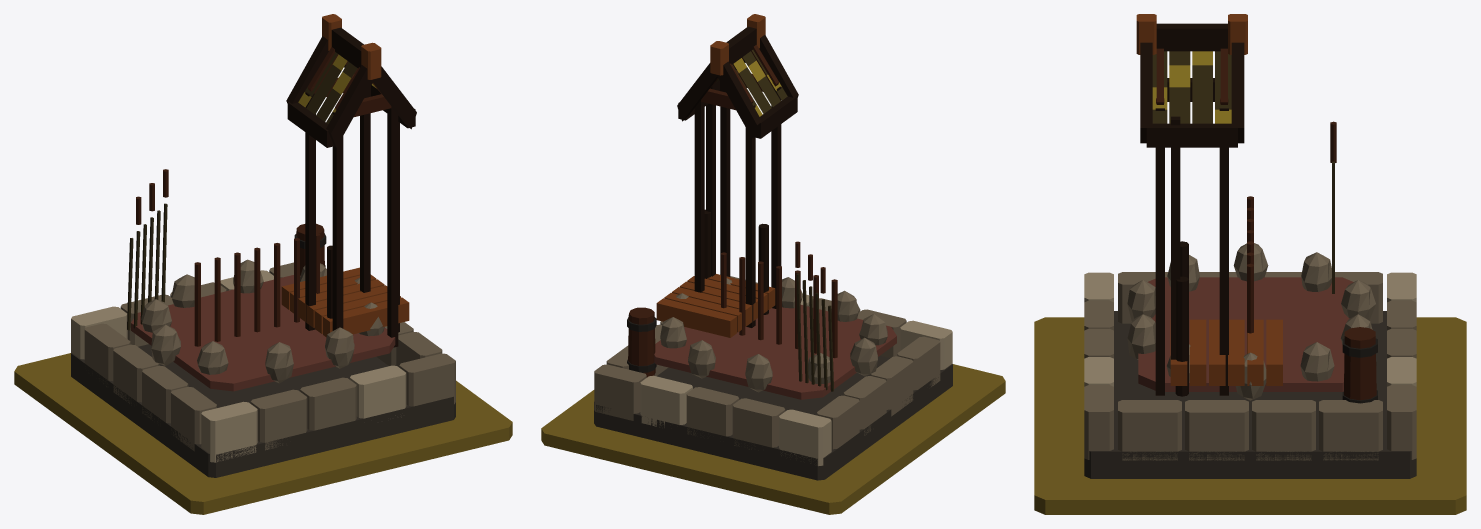
The model's file is blackwater-weir_t6.glb.
The picture shows the model from 3 angles, left to right: view 1: azimuth 30°, elevation 25°; view 2: azimuth 150°, elevation 25°; view 3: azimuth 270°, elevation 25°; orthographic projection. The views are drawn at different scales.
Visible parts, largest first — view 1: MMR | blackwater-weir | T06 Architecture.001, MMR | blackwater-weir | Tier 06 Ground.001; view 2: MMR | blackwater-weir | T06 Architecture.001, MMR | blackwater-weir | Tier 06 Ground.001; view 3: MMR | blackwater-weir | T06 Architecture.001, MMR | blackwater-weir | Tier 06 Ground.001.
Boxes of the visible parts, bbox=[...] form: MMR | blackwater-weir | T06 Architecture.001: bbox=[71, 14, 455, 477]; MMR | blackwater-weir | Tier 06 Ground.001: bbox=[14, 353, 512, 514]; MMR | blackwater-weir | T06 Architecture.001: bbox=[594, 14, 952, 480]; MMR | blackwater-weir | Tier 06 Ground.001: bbox=[541, 364, 1005, 514]; MMR | blackwater-weir | T06 Architecture.001: bbox=[1084, 14, 1416, 478]; MMR | blackwater-weir | Tier 06 Ground.001: bbox=[1034, 317, 1466, 514].
Size of the model in its own units: 1.3 by 1.46 by 1.3.
Materials: 1 (1 with a texture image).
